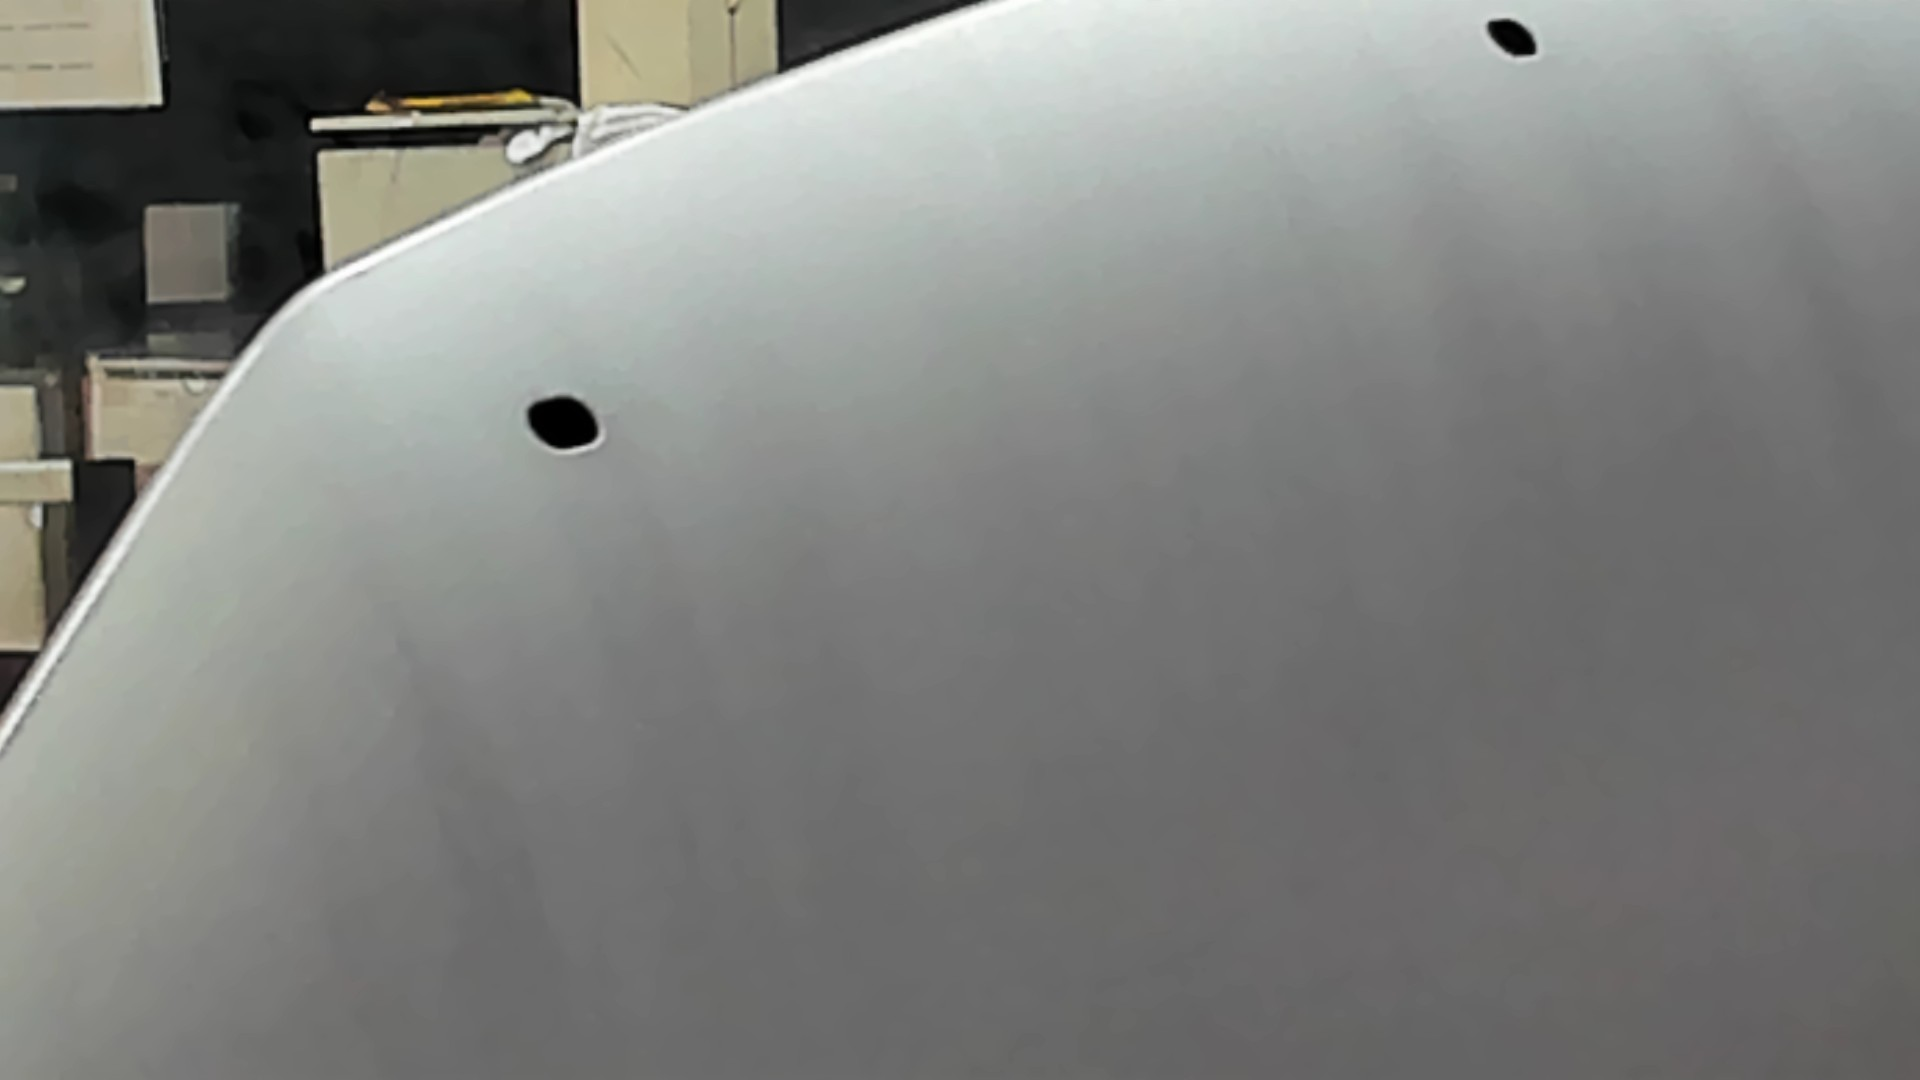Agujero: (518, 386, 607, 458), (1476, 12, 1548, 65)
